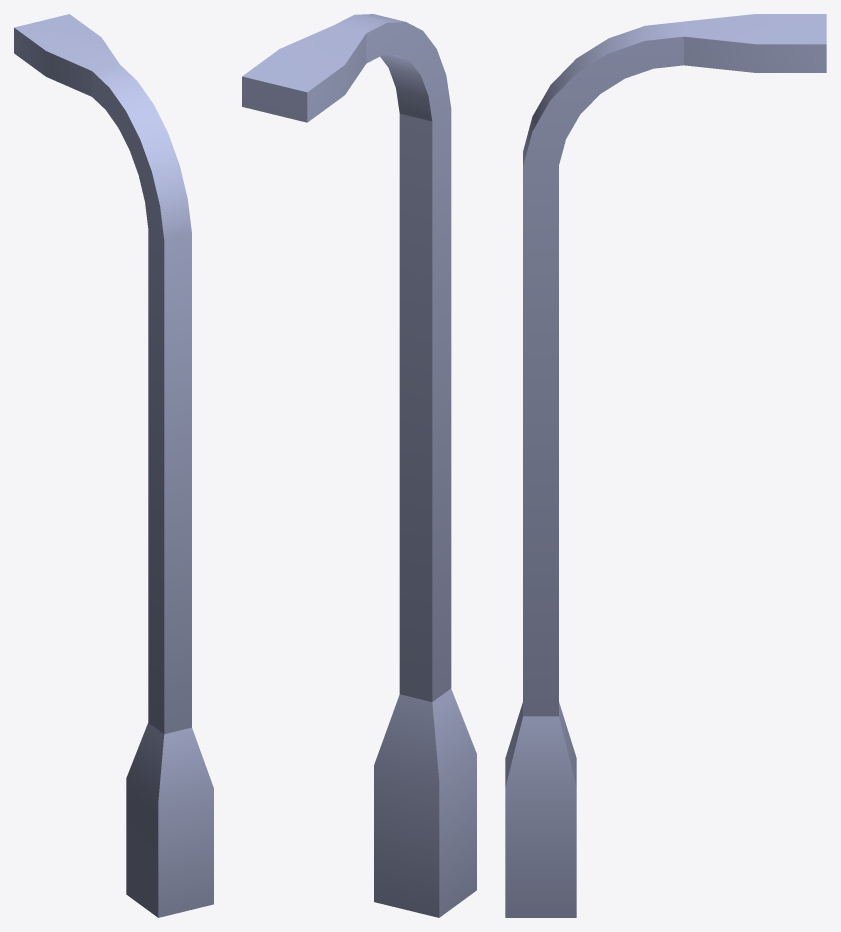
The model's file is light_curved.glb.
The picture shows the model from 3 angles, left to right: view 1: azimuth 30°, elevation 25°; view 2: azimuth 150°, elevation 25°; view 3: azimuth 270°, elevation 25°; orthographic projection. The views are drawn at different scales.
Parts seen in each view (by area): view 1: light-curved; view 2: light-curved; view 3: light-curved.
Boxes of the visible parts, x1=… form: light-curved: x1=14, y1=14, x2=213, y2=917; light-curved: x1=242, y1=14, x2=476, y2=917; light-curved: x1=505, y1=14, x2=826, y2=917.
Bounding box in the file's own units: 0.3 × 4.05 × 1.35.
Materials: 1 (1 with a texture image).
